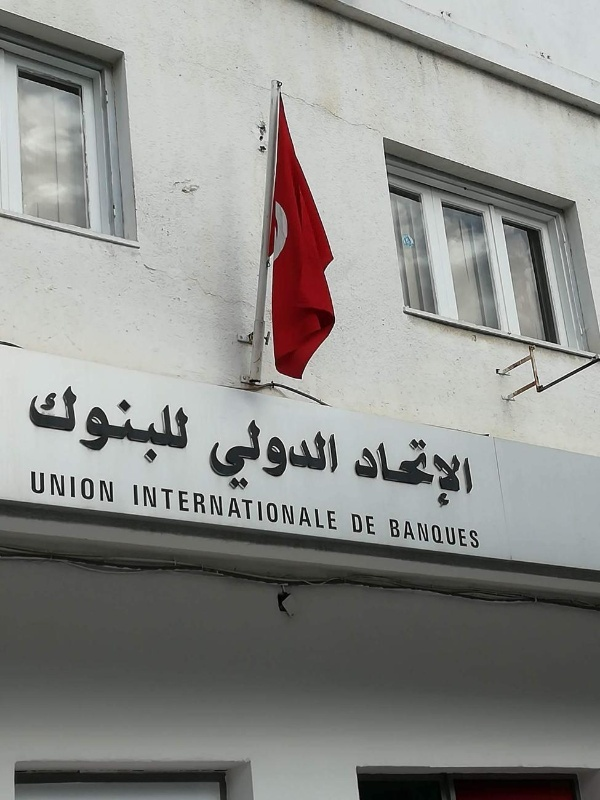text: (369, 426, 384, 516), (385, 426, 400, 516), (401, 426, 416, 516), (417, 426, 432, 516), (433, 426, 448, 516), (449, 426, 464, 516), (33, 378, 48, 467), (49, 378, 64, 467), (65, 378, 80, 467), (81, 378, 96, 467), (97, 378, 112, 467), (113, 378, 128, 467), (129, 378, 144, 467), (145, 378, 160, 467), (161, 378, 176, 467), (209, 413, 224, 501), (225, 413, 240, 501), (241, 413, 256, 501), (257, 413, 272, 501), (273, 413, 288, 501), (289, 413, 304, 501), (305, 413, 320, 501), (321, 413, 336, 501), (355, 426, 368, 516), (177, 378, 189, 467), (465, 426, 475, 516), (145, 483, 160, 532), (161, 483, 176, 532), (177, 483, 192, 532), (193, 483, 208, 532), (209, 483, 224, 532), (225, 483, 240, 532), (241, 483, 256, 532), (257, 483, 272, 532), (273, 483, 288, 532), (289, 483, 304, 532), (305, 483, 320, 532), (321, 483, 336, 532), (130, 483, 144, 532), (26, 378, 32, 467), (33, 470, 48, 505), (49, 470, 64, 505), (65, 470, 80, 505), (81, 470, 96, 505), (97, 470, 112, 505), (465, 518, 481, 549), (401, 518, 416, 549), (417, 518, 432, 549), (433, 518, 448, 549), (449, 518, 464, 549), (337, 413, 342, 501), (353, 512, 368, 537), (204, 413, 208, 501), (389, 518, 400, 549), (369, 512, 377, 537), (113, 470, 116, 505), (337, 483, 339, 532), (31, 470, 32, 505), (351, 512, 352, 537)
